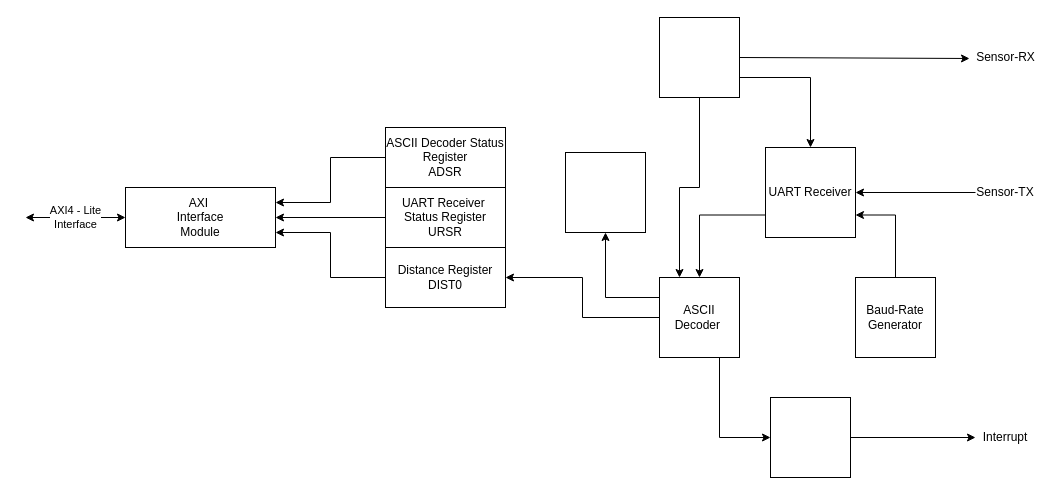
This 1063x495 diagram has some shape labels left out. Here are the shapes that lost their labels. From the top down, the box of each, then its label:
(658, 16, 740, 98): Startup & Calibration Timer
(564, 152, 646, 232): Watchdog Timer
(770, 396, 850, 478): Control Unit
